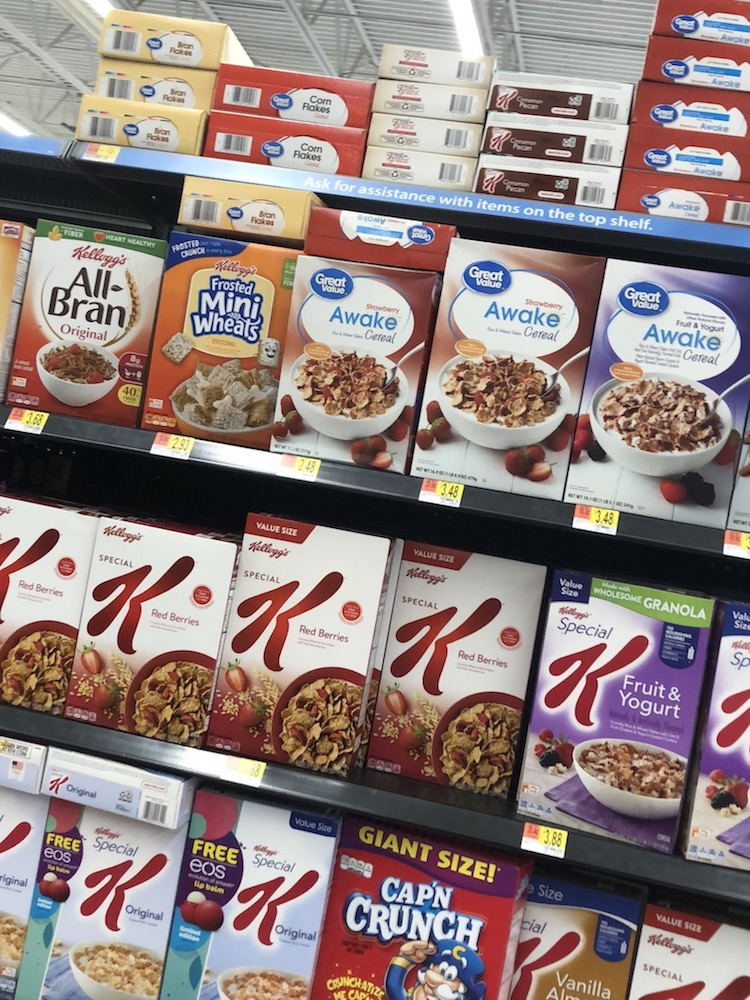Frosted Mini Original -9295869: (149, 244, 289, 427)
